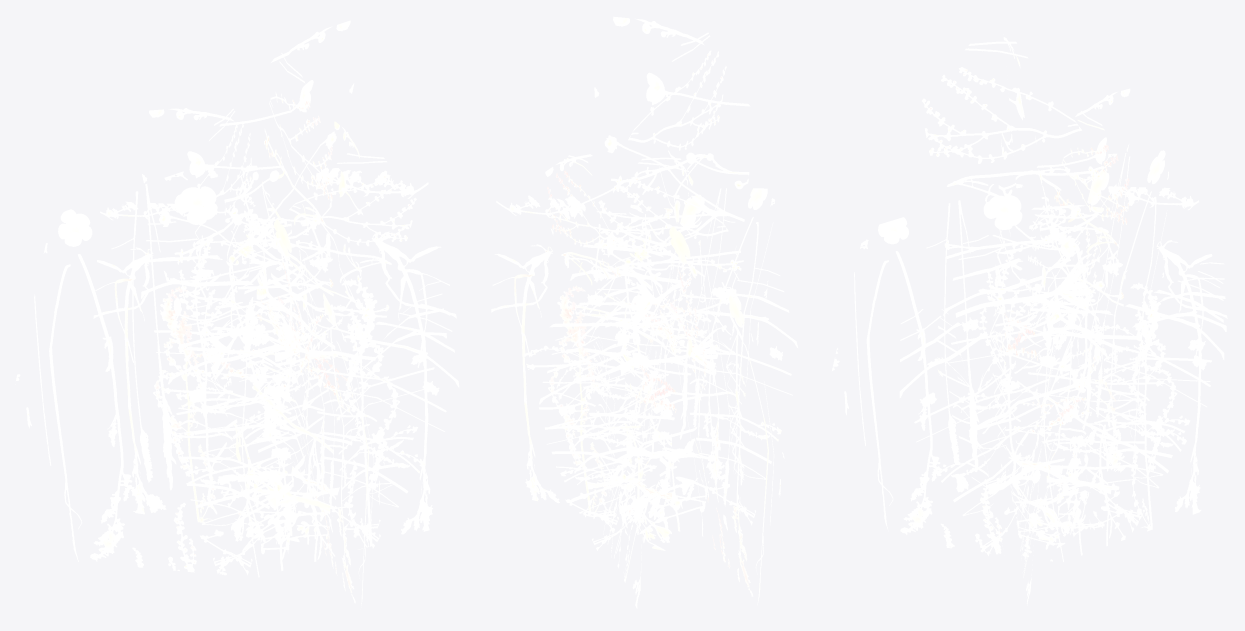
3 renders of one model, left to right at view 1: azimuth 30°, elevation 25°; view 2: azimuth 150°, elevation 25°; view 3: azimuth 270°, elevation 25°, orthographic. The views are drawn at different scales.
Parts seen in each view (by area): view 1: SM_HL_WildFlower_01_LOD0; view 2: SM_HL_WildFlower_01_LOD0; view 3: SM_HL_WildFlower_01_LOD0.
Boxes of the visible parts, <box> form: SM_HL_WildFlower_01_LOD0: <box>15,20,459,607</box>; SM_HL_WildFlower_01_LOD0: <box>491,16,797,608</box>; SM_HL_WildFlower_01_LOD0: <box>832,34,1227,605</box>.
Bounding box in the file's own units: 0.8025 × 1.1 × 0.7672.
